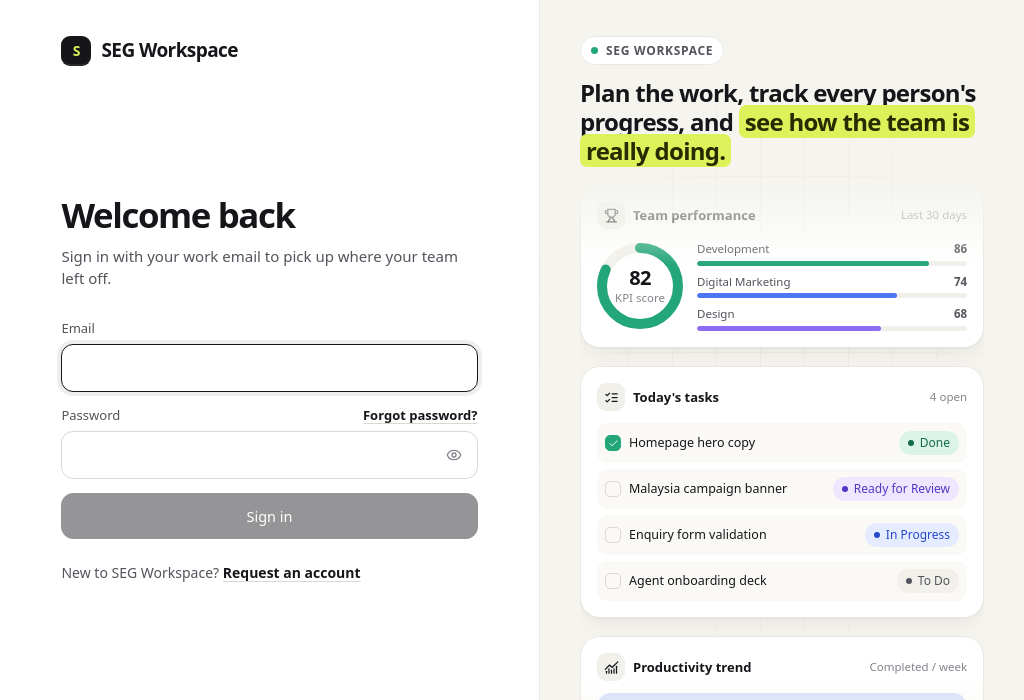
Login › sends the CSRF header and explains a pending account
The image size is (1024, 700).
Type "walid@seg.test" into the field labelled "Email".
click(269, 368); type("walid@seg.test")  # box [61,344,478,392]
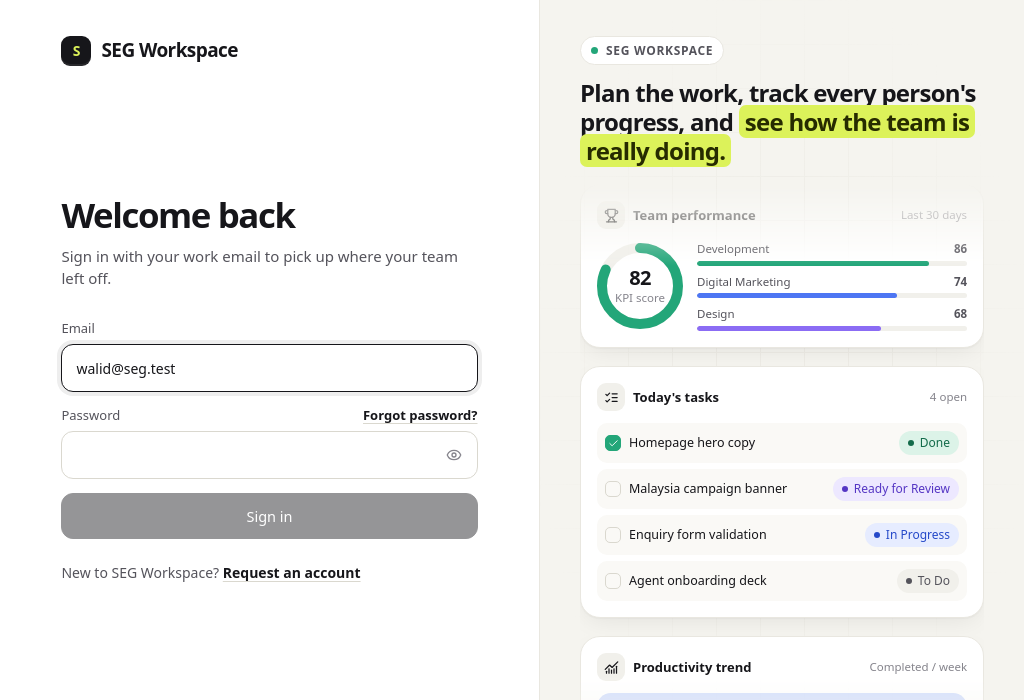
Type "correct-horse-battery" into the password field labelled "Password".
click(269, 455); type("correct-horse-battery")  # box [61,431,478,479]
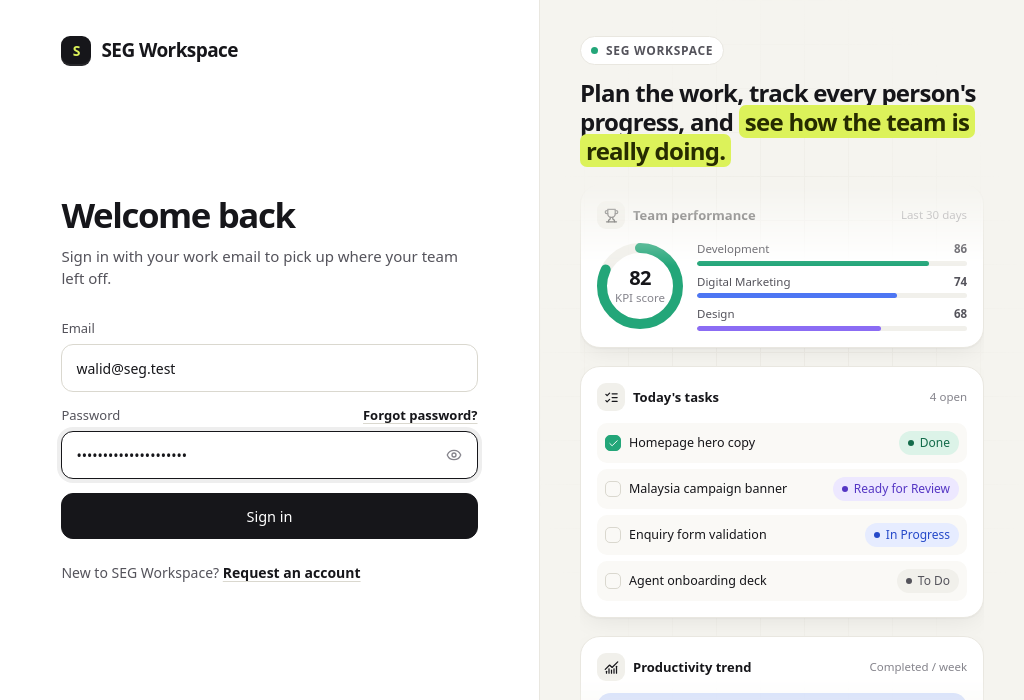
Click the button "Sign in".
click(269, 516)  # box [61,493,478,539]
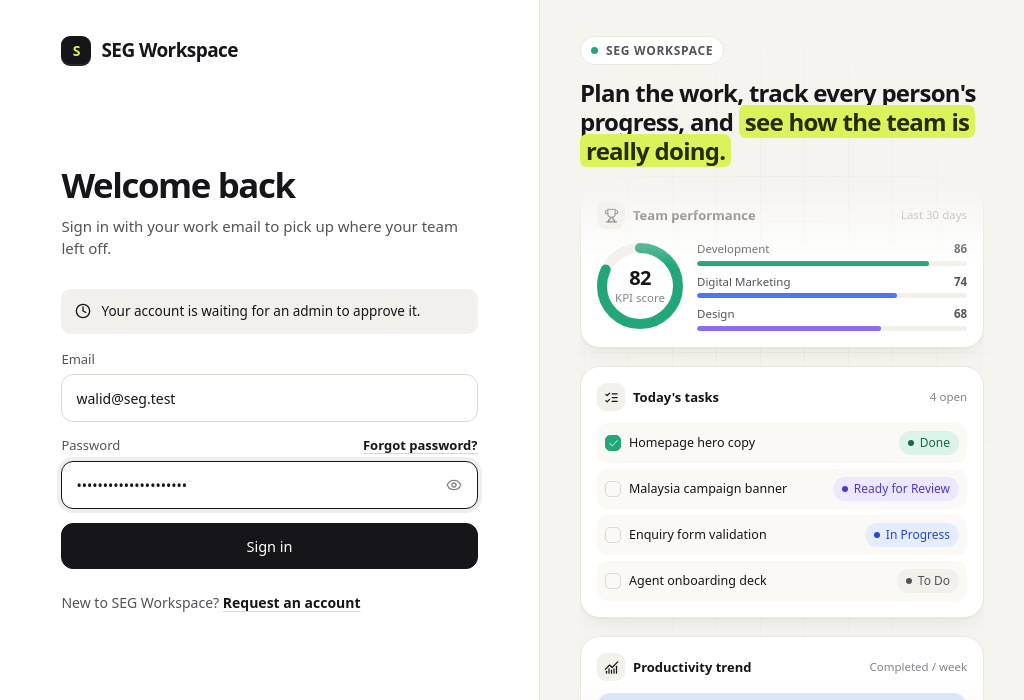
Check: the message shows "waiting for an admin", box [101,302,420,320]
